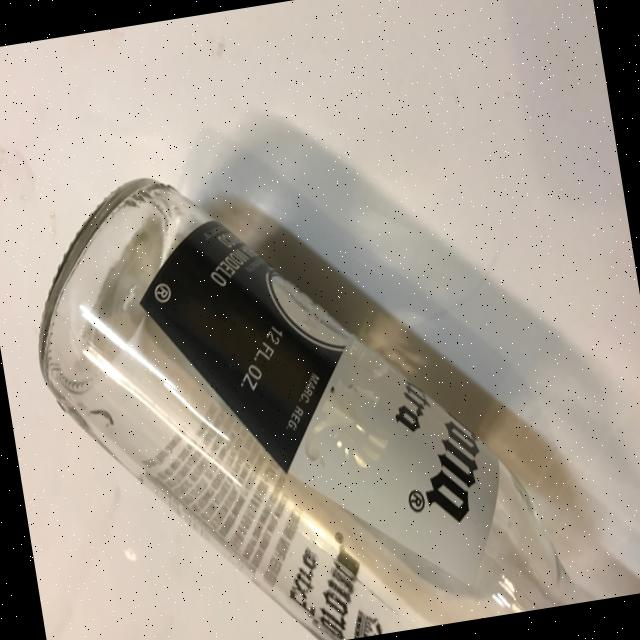glass: (13, 116, 593, 640)
